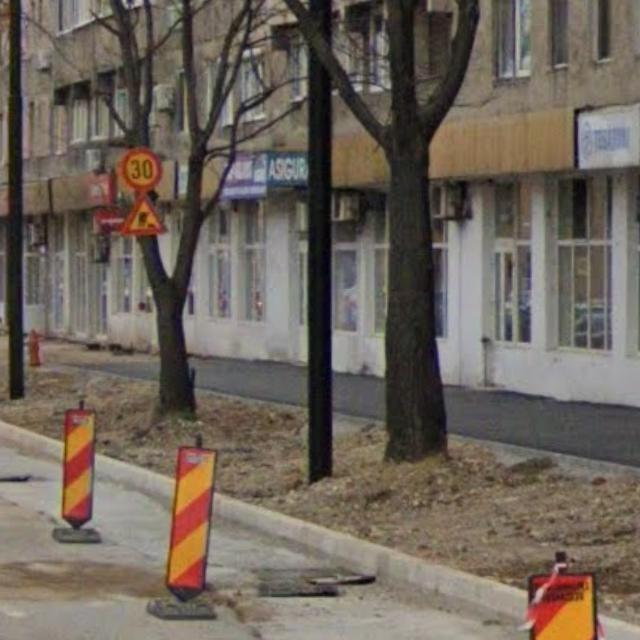forb_speed_over_30: (122, 149, 162, 191)
